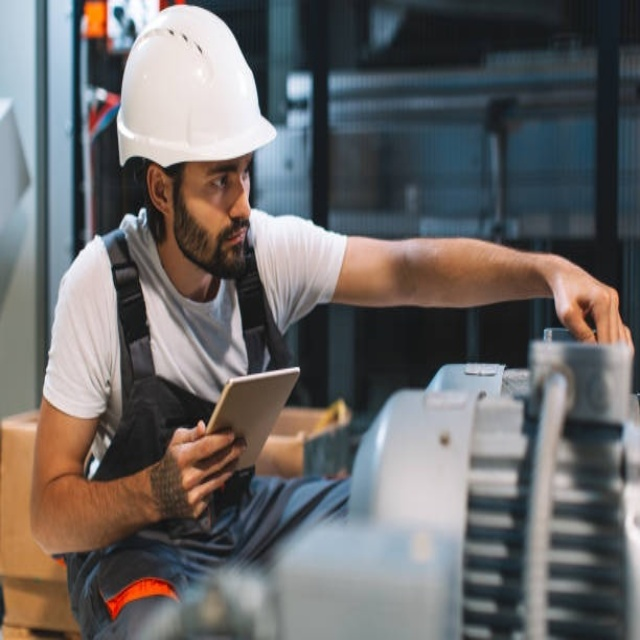Sin_gafas: (195, 154, 257, 196)
Sin_guantes: (146, 420, 247, 528), (550, 267, 632, 349)
Sin_mascara: (215, 223, 250, 265)
